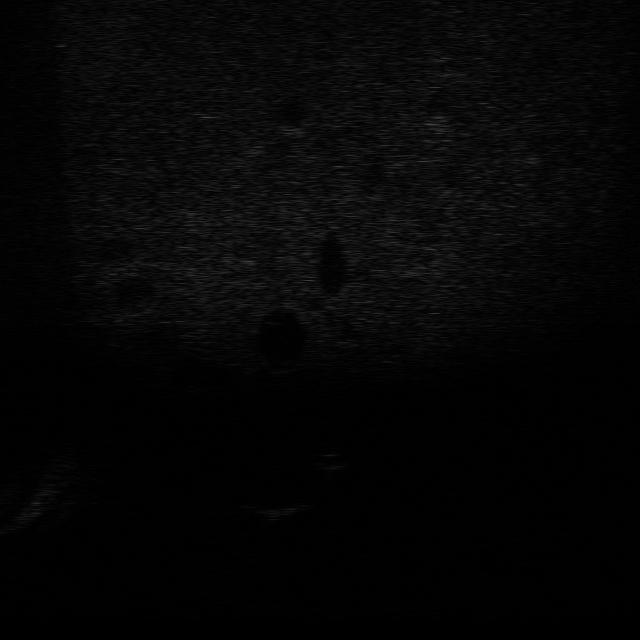ball: (301, 445, 354, 477)
square cage: (239, 490, 319, 526)
